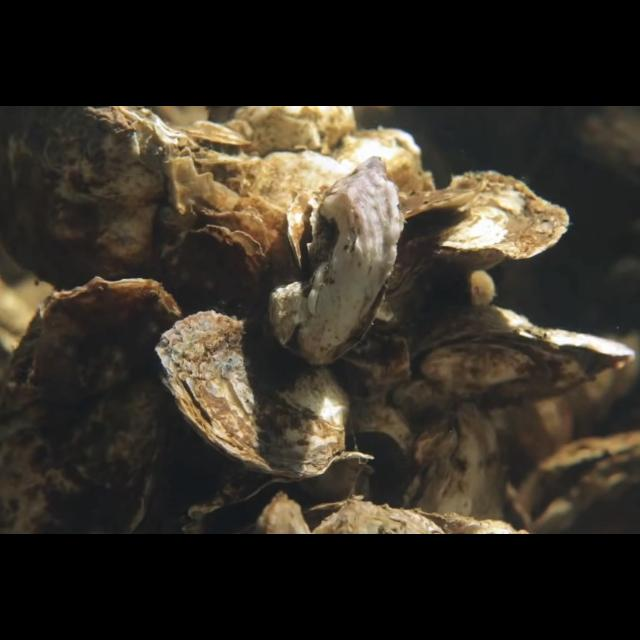Oyster-Closed: (0, 276, 184, 534), (154, 310, 352, 480), (268, 156, 404, 367), (410, 305, 640, 411), (386, 172, 570, 298), (396, 402, 510, 534)
Oyster-Indeterminate: (0, 106, 220, 286), (157, 225, 270, 327)
Oyster-Open: (188, 453, 374, 535), (518, 434, 640, 534)
